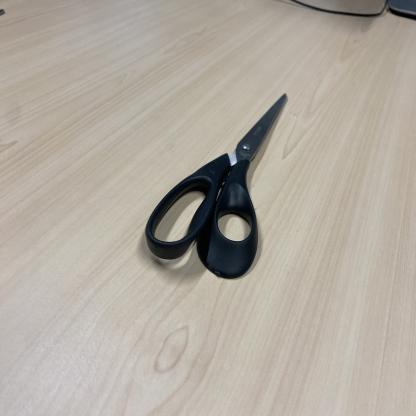scissors: (145, 94, 288, 280)
